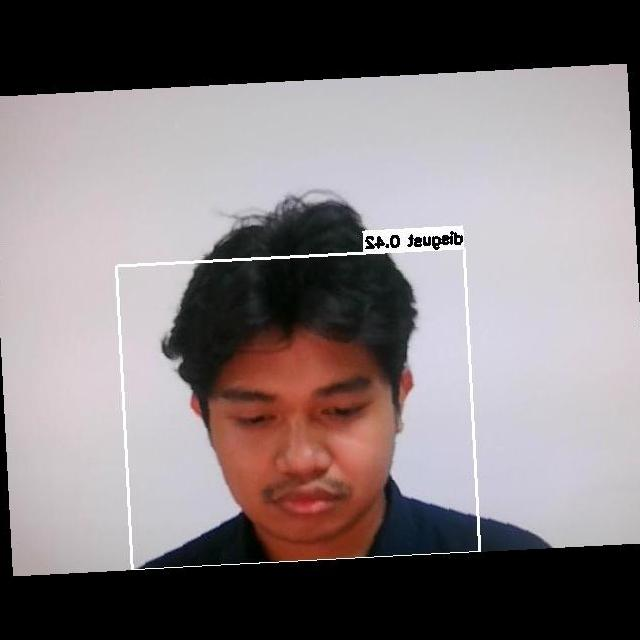Natural: (209, 372, 403, 520)
